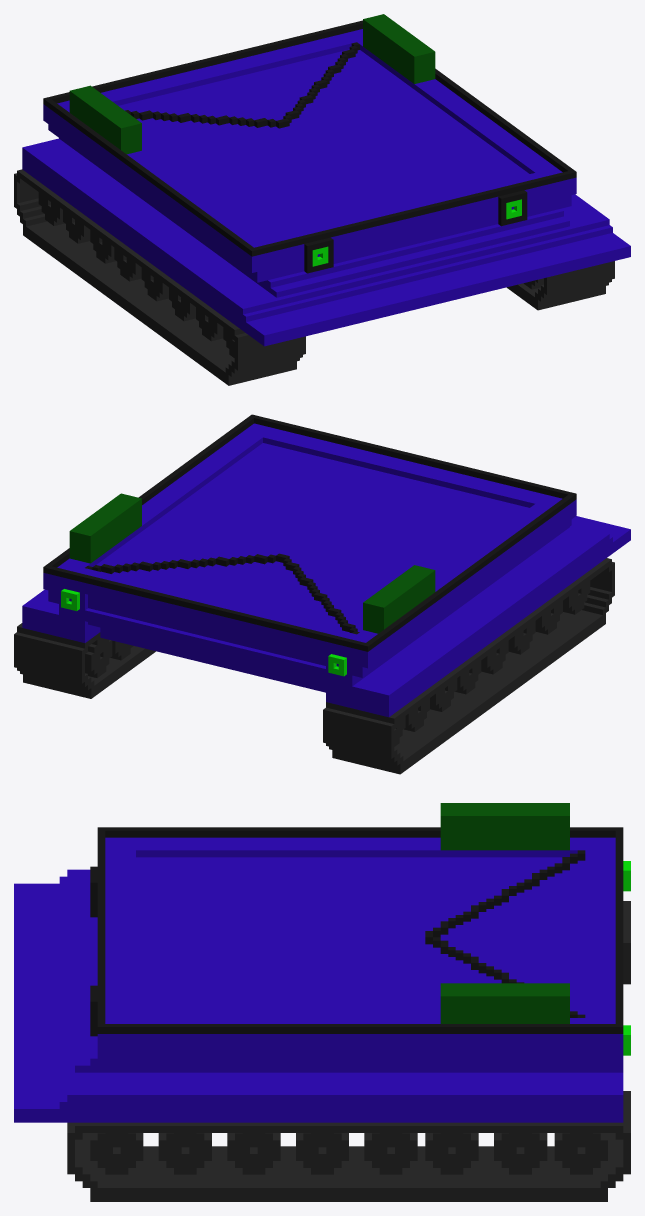
The model's file is modelobj-0.obj.
3 views of the same model, one above another, from view 1: azimuth 30°, elevation 25°; view 2: azimuth 150°, elevation 25°; view 3: azimuth 270°, elevation 25° (orthographic). The views are drawn at different scales.
Visible parts, largest first — view 1: modelobj-0; view 2: modelobj-0; view 3: modelobj-0.
Part boxes in pixels (x1,y1,x2,y2): modelobj-0: [14, 14, 630, 385]; modelobj-0: [14, 414, 630, 774]; modelobj-0: [14, 803, 630, 1201].
Bounding box in the file's own units: 72 × 27 × 81.
Materials: 1 (1 with a texture image).
